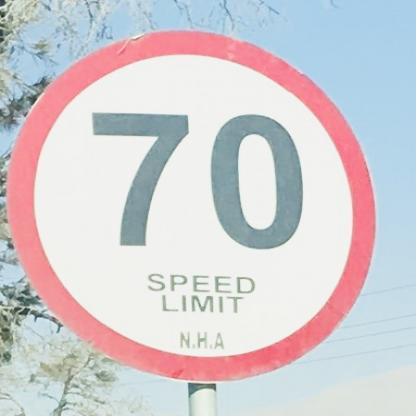Speed Limit -70 kmph-: (7, 28, 376, 380)
